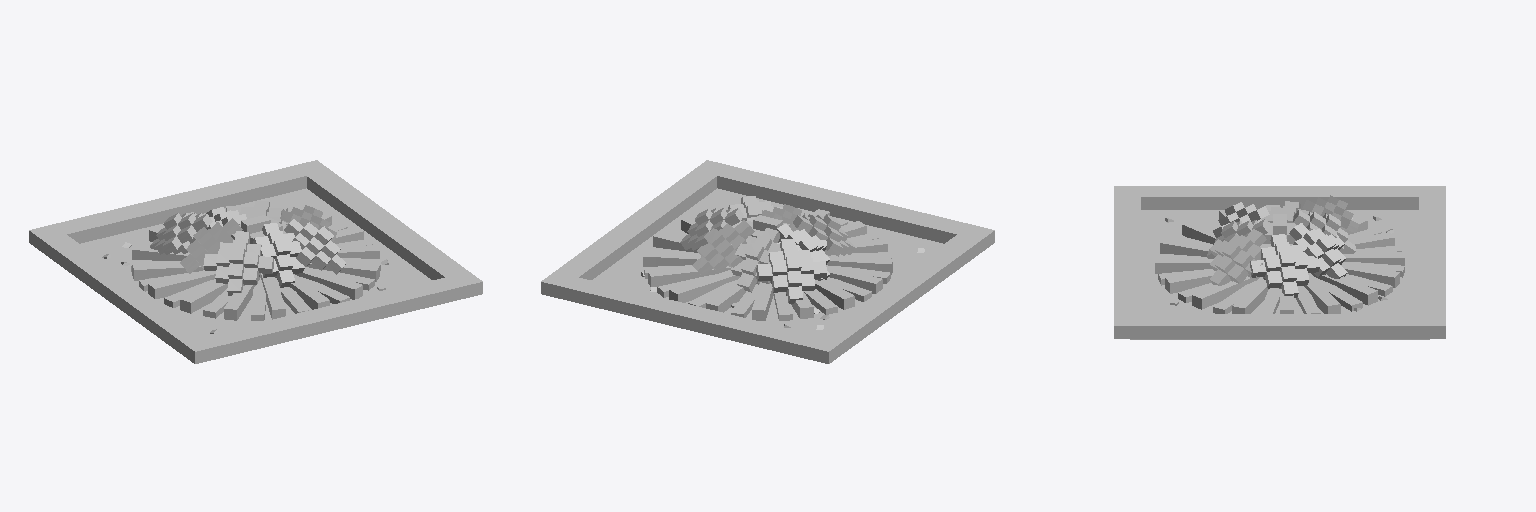
File: mixed1.obj
3 views of the same model, side by side, from view 1: azimuth 30°, elevation 25°; view 2: azimuth 150°, elevation 25°; view 3: azimuth 270°, elevation 25° (orthographic).
Parts seen in each view (by area): view 1: Box001, Plane157, Plane191, Plane196, Plane192, Plane190, Plane197, Plane161, Plane166, Plane162, Plane160, Plane195 (+7 smaller); view 2: Box001, Plane157, Plane190, Plane194, Plane193, Plane191, Plane195, Plane172, Plane197, Plane171, Plane162, Plane170 (+5 smaller); view 3: Box001, Plane157, Plane195, Plane192, Plane194, Plane193, Plane190, Plane167, Plane191, Plane171, Plane165, Plane166 (+8 smaller).
Boxes of the visible parts, x1,y1,x2,y2 form: Box001: [29, 160, 482, 363]; Plane157: [80, 188, 431, 335]; Plane191: [203, 231, 273, 295]; Plane196: [253, 223, 304, 287]; Plane192: [284, 219, 345, 274]; Plane190: [150, 213, 212, 254]; Plane197: [180, 218, 242, 273]; Plane161: [148, 270, 215, 298]; Plane166: [295, 266, 362, 299]; Plane162: [180, 280, 227, 313]; Plane160: [132, 262, 203, 280]; Plane195: [280, 205, 336, 241]; Box001: [541, 160, 994, 363]; Plane157: [592, 188, 943, 335]; Plane190: [756, 239, 826, 303]; Plane194: [692, 220, 754, 276]; Plane193: [731, 228, 780, 292]; Plane191: [793, 214, 855, 256]; Plane195: [680, 208, 743, 250]; Plane172: [669, 270, 739, 302]; Plane197: [776, 224, 829, 280]; Plane171: [648, 266, 730, 286]; Plane162: [827, 255, 892, 274]; Plane170: [643, 251, 700, 266]; Box001: [1114, 186, 1445, 339]; Plane157: [1141, 210, 1418, 313]; Plane195: [1250, 234, 1319, 297]; Plane192: [1209, 229, 1266, 285]; Plane194: [1289, 223, 1347, 278]; Plane193: [1293, 210, 1355, 253]; Plane190: [1302, 195, 1359, 232]; Plane167: [1192, 276, 1257, 309]; Plane191: [1213, 202, 1269, 237]; Plane171: [1311, 273, 1377, 305]; Plane165: [1155, 258, 1213, 273]; Plane166: [1165, 269, 1215, 293].
Size of the model in its own units: 0.744 by 0.1835 by 0.744.